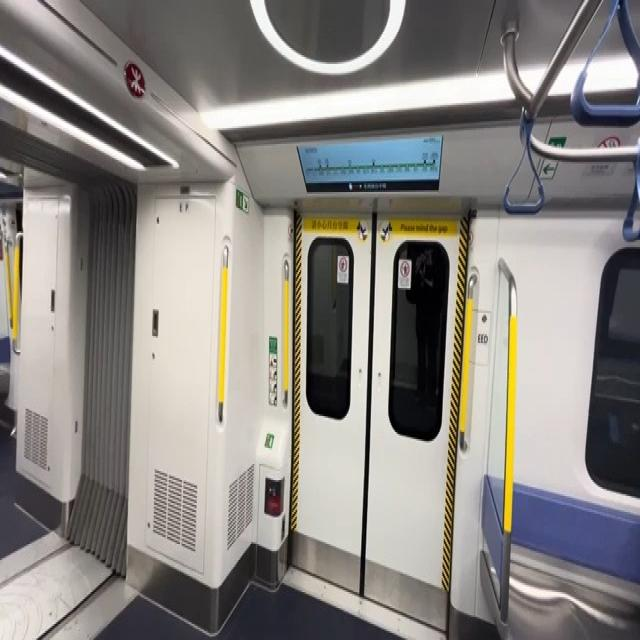bus-door: (294, 211, 468, 640)
